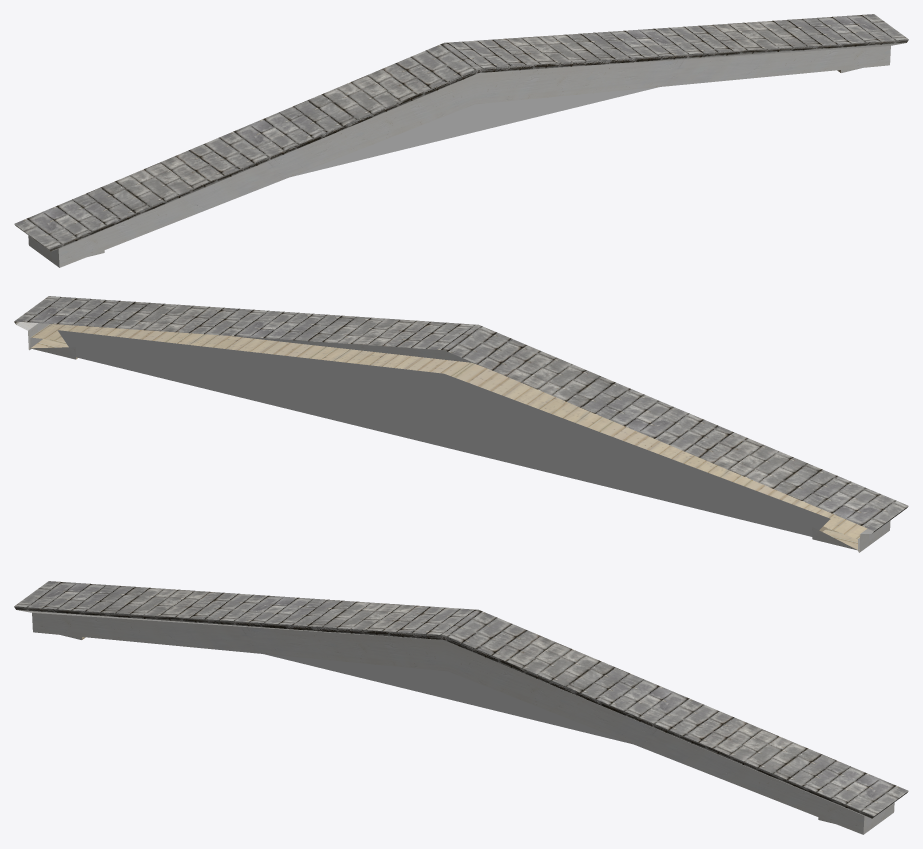
Rendered from RoofLow_End_5x_COL.FBX.
The picture shows the model from 3 angles, top to bottom: view 1: azimuth 30°, elevation 25°; view 2: azimuth 150°, elevation 25°; view 3: azimuth 330°, elevation 25°; orthographic projection.
Visible parts, largest first — view 1: RoofLow_End_5x_COL; view 2: RoofLow_End_5x_COL; view 3: RoofLow_End_5x_COL.
Boxes of the visible parts, box(x1,y1,x2,y2) form: RoofLow_End_5x_COL: box(14, 14, 908, 267); RoofLow_End_5x_COL: box(14, 296, 908, 552); RoofLow_End_5x_COL: box(14, 581, 908, 834).
Bounding box in the file's own units: 584 × 65.78 × 40.91.
